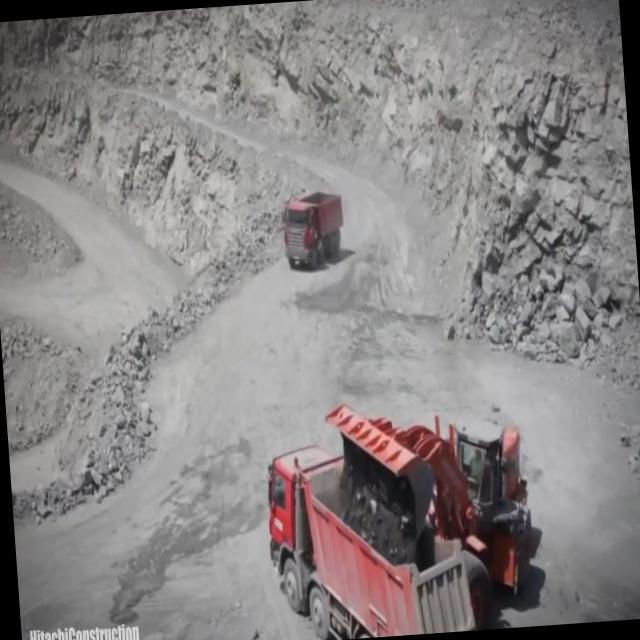Camion volquete: (262, 430, 475, 640), (278, 182, 346, 271)
pala cargadora: (322, 389, 536, 609)
